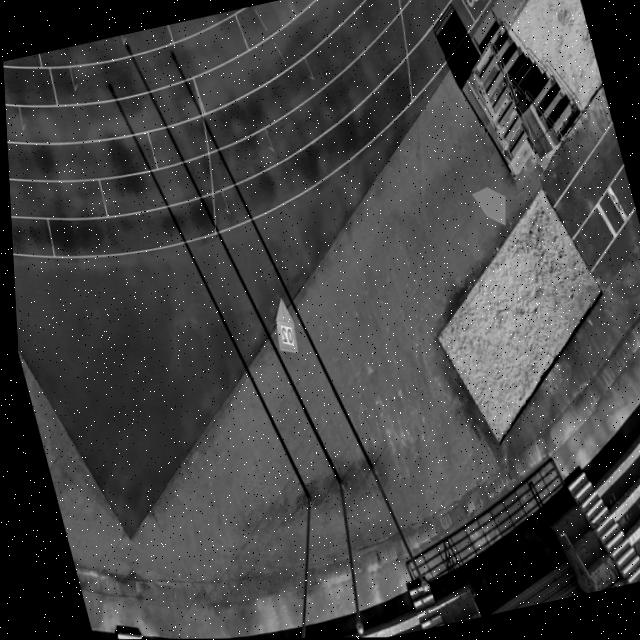board: (468, 188, 503, 226), (271, 297, 294, 353)
